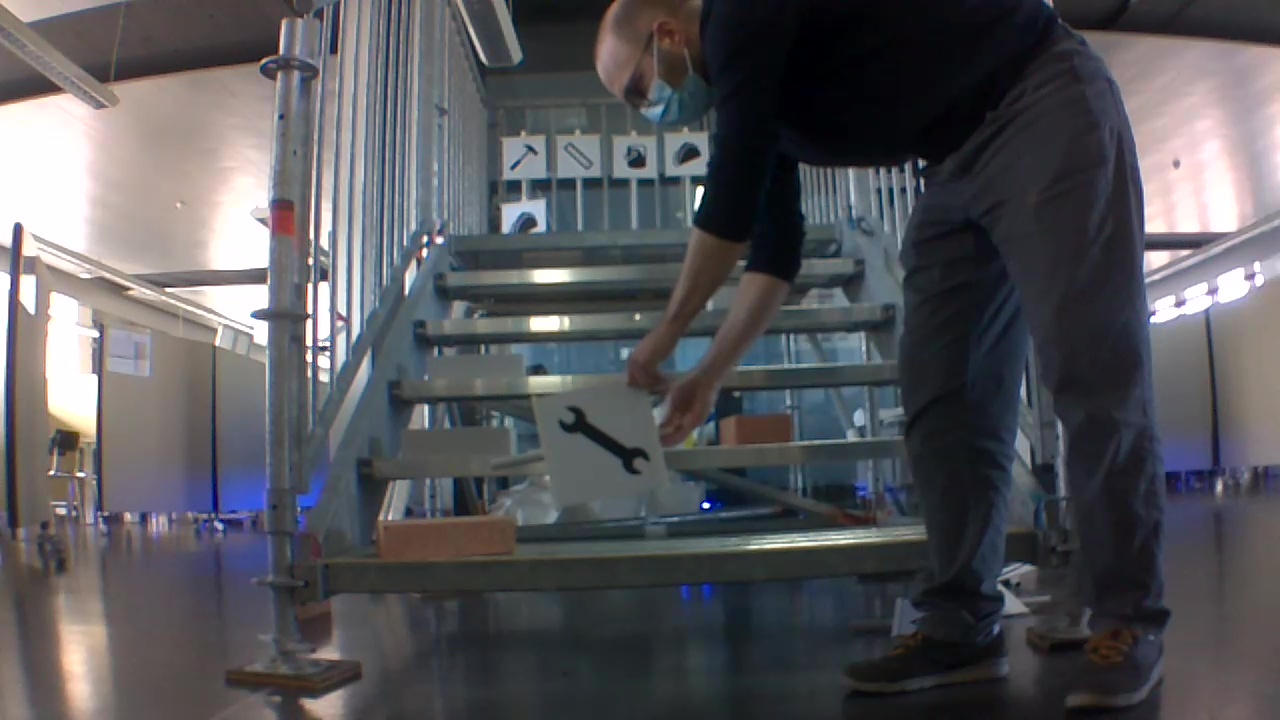brick: (375, 515, 515, 559), (403, 428, 514, 461), (429, 354, 524, 379), (718, 413, 791, 442)
bucket: (620, 142, 652, 171)
hammer: (506, 141, 538, 175)
ruler: (562, 141, 595, 170)
taco: (669, 137, 703, 169), (505, 209, 539, 239)
wrench: (551, 403, 651, 485)
